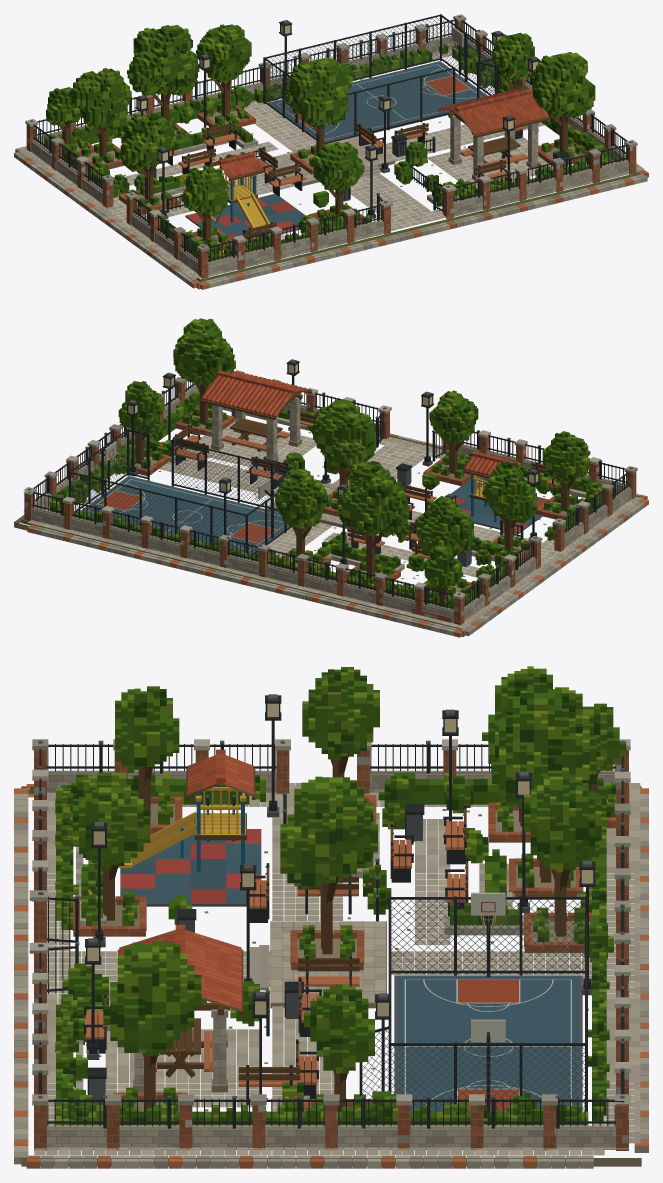
The model's file is SM_StreetFrontage_116.fbx.
The picture shows the model from 3 angles, top to bottom: view 1: azimuth 30°, elevation 25°; view 2: azimuth 150°, elevation 25°; view 3: azimuth 270°, elevation 25°; orthographic projection. The views are drawn at different scales.
Parts seen in each view (by area): view 1: SM_StreetFrontage_116; view 2: SM_StreetFrontage_116; view 3: SM_StreetFrontage_116.
Boxes of the visible parts, <box> form: SM_StreetFrontage_116: <box>14,14,648,289</box>; SM_StreetFrontage_116: <box>14,318,648,637</box>; SM_StreetFrontage_116: <box>14,666,648,1168</box>.
Size of the model in its own units: 80 by 56.85 by 19.9.
